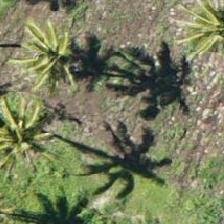coconut_tree: (5, 20, 95, 110), (0, 94, 60, 184)
